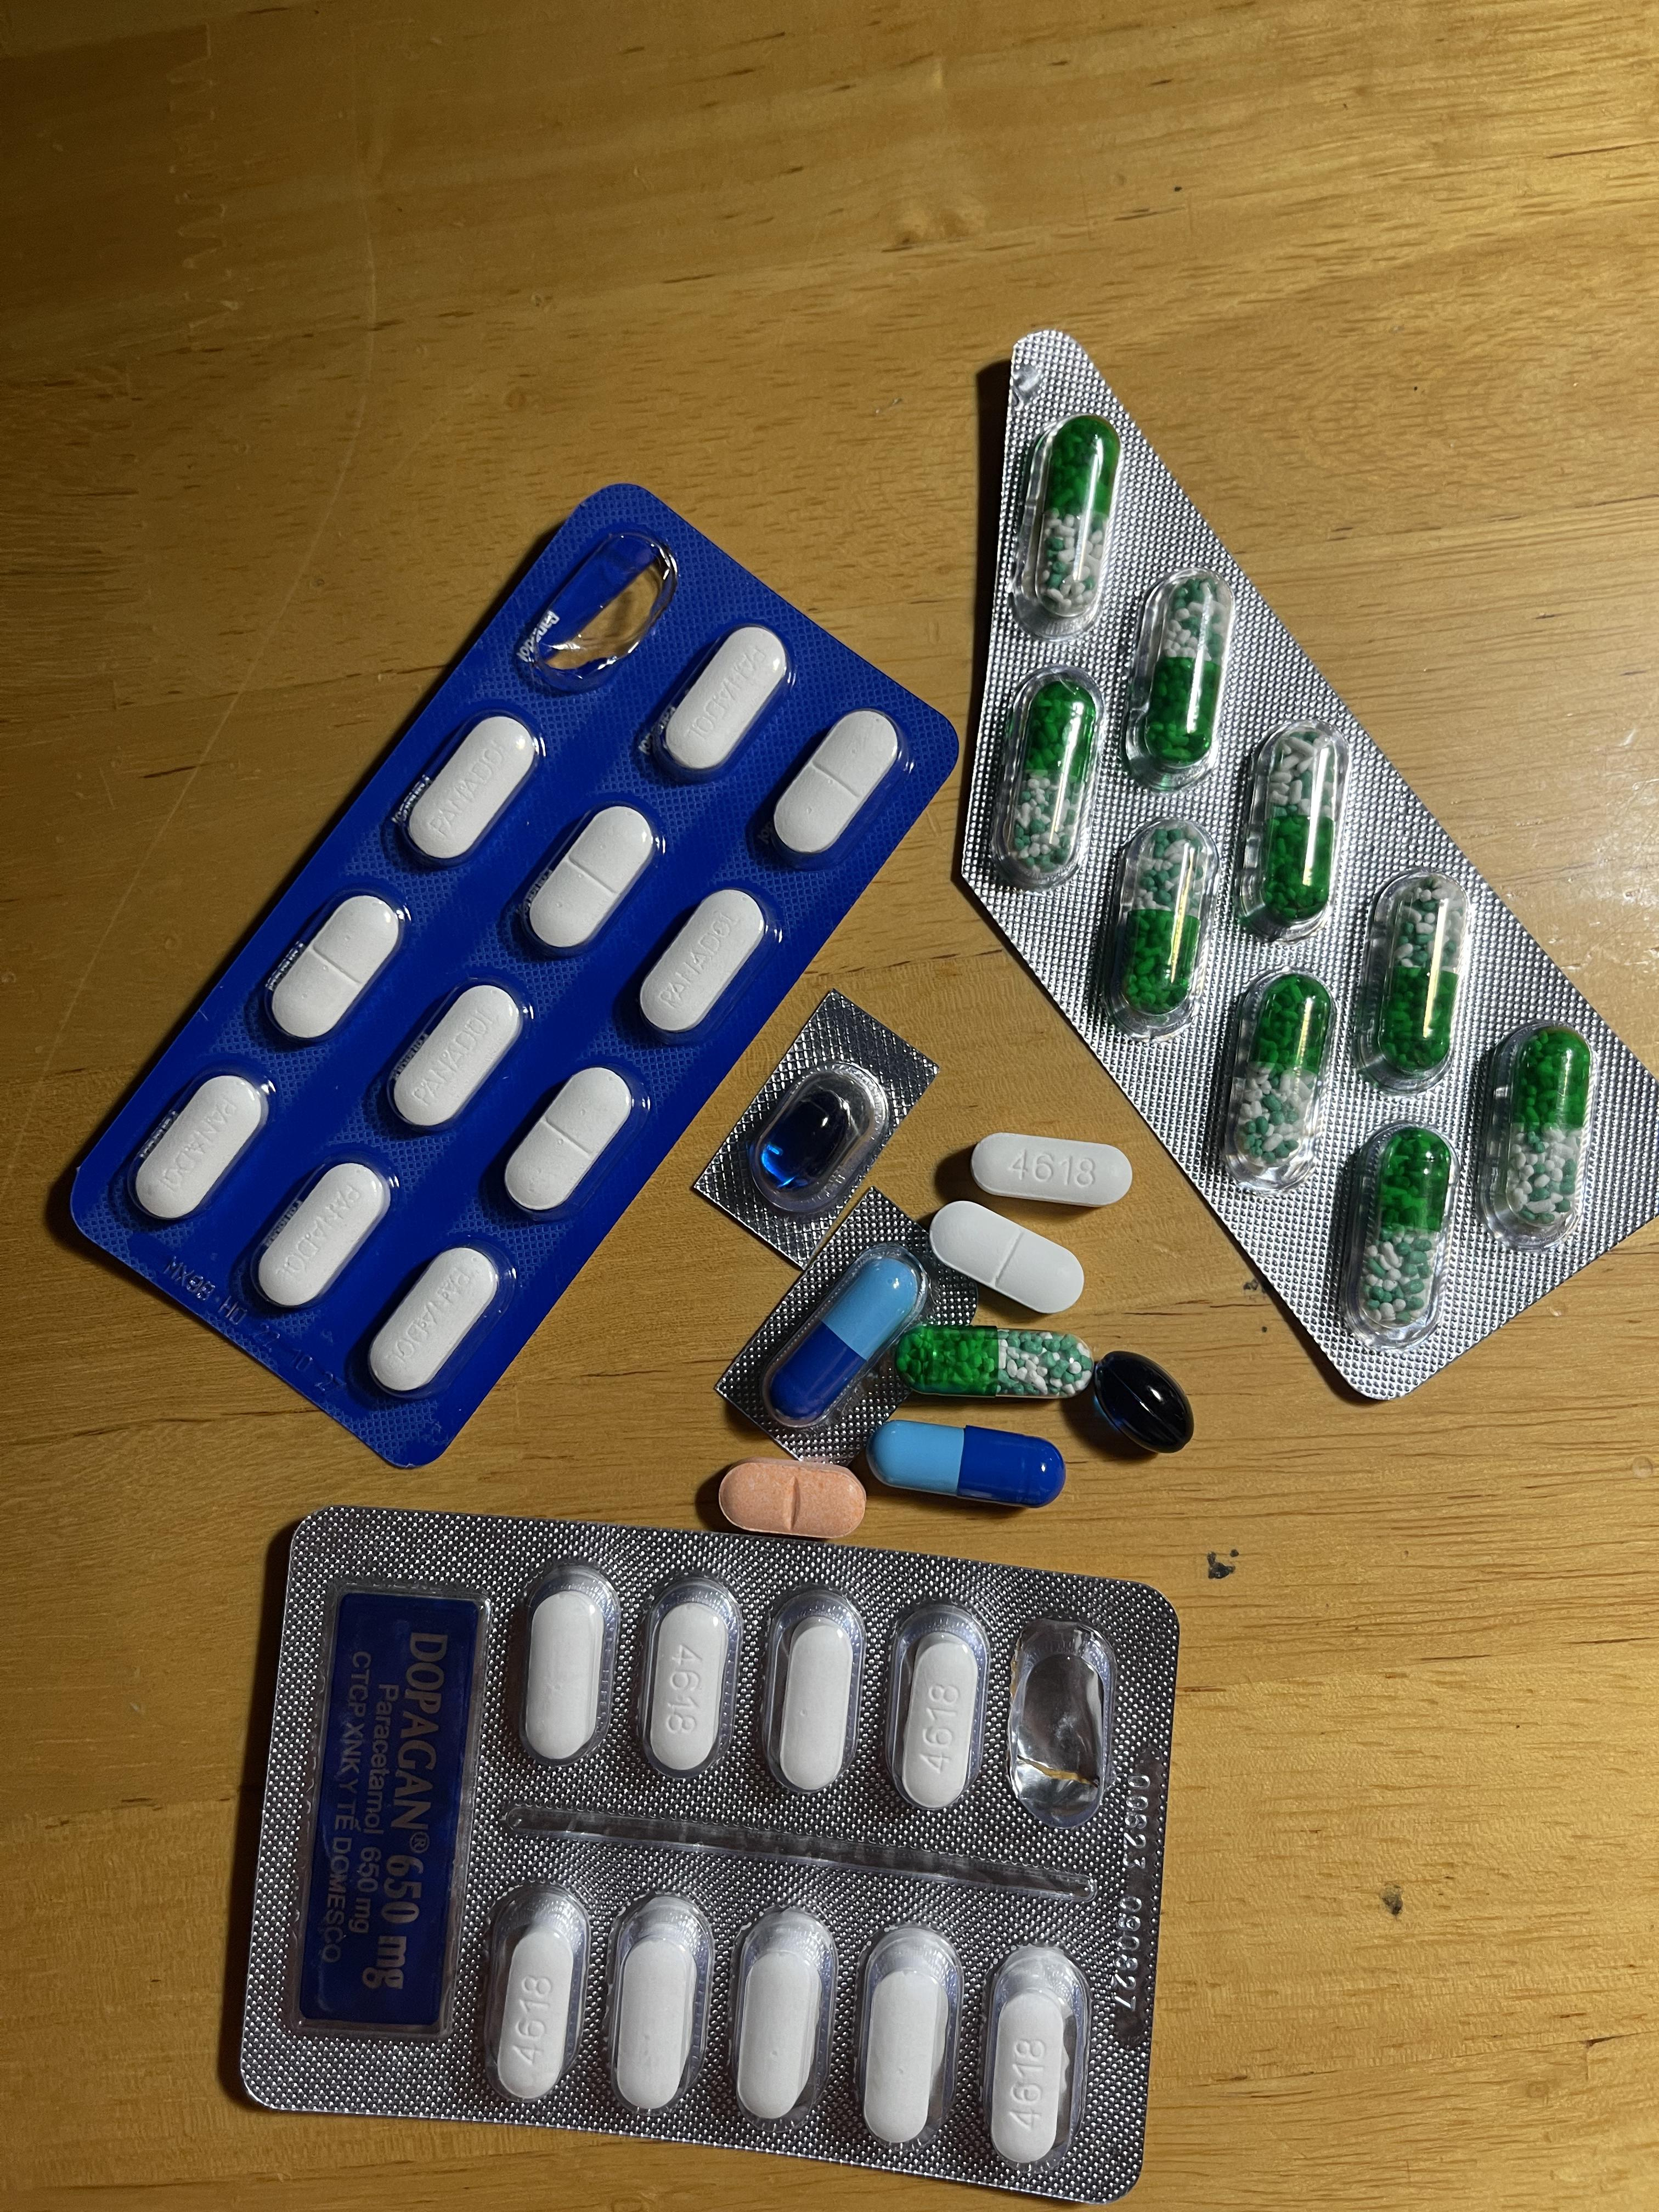Lincomyxin_500mg: (1091, 1350, 1195, 1454), (755, 1087, 856, 1191)
Loratadine_10mg: (718, 1456, 863, 1527)
Paracetamol_350mg: (760, 709, 901, 871), (650, 627, 789, 786), (254, 1158, 394, 1312), (518, 805, 657, 958), (399, 714, 538, 867), (132, 1069, 270, 1223), (387, 981, 525, 1134), (638, 885, 770, 1040), (366, 1244, 500, 1395), (270, 892, 404, 1042), (505, 1064, 636, 1214), (931, 1198, 1087, 1315)
Paracetamol_500mg: (737, 1926, 828, 2127), (615, 1921, 699, 2113), (863, 1959, 948, 2146), (497, 1926, 580, 2101), (525, 1587, 606, 1761), (650, 1604, 730, 1782), (775, 1616, 854, 1792), (899, 1637, 978, 1811), (992, 1996, 1072, 2165), (971, 1130, 1126, 1207)
Paracetamol_650mg: (1230, 977, 1331, 1169), (1499, 1033, 1591, 1233), (1361, 1132, 1453, 1325), (1255, 725, 1342, 928), (1140, 577, 1230, 768), (1032, 425, 1114, 629), (1119, 827, 1206, 1015), (1011, 683, 1096, 871), (1380, 888, 1462, 1073), (894, 1324, 1089, 1397)
pill: (760, 1242, 927, 1425), (870, 1416, 1066, 1503)
